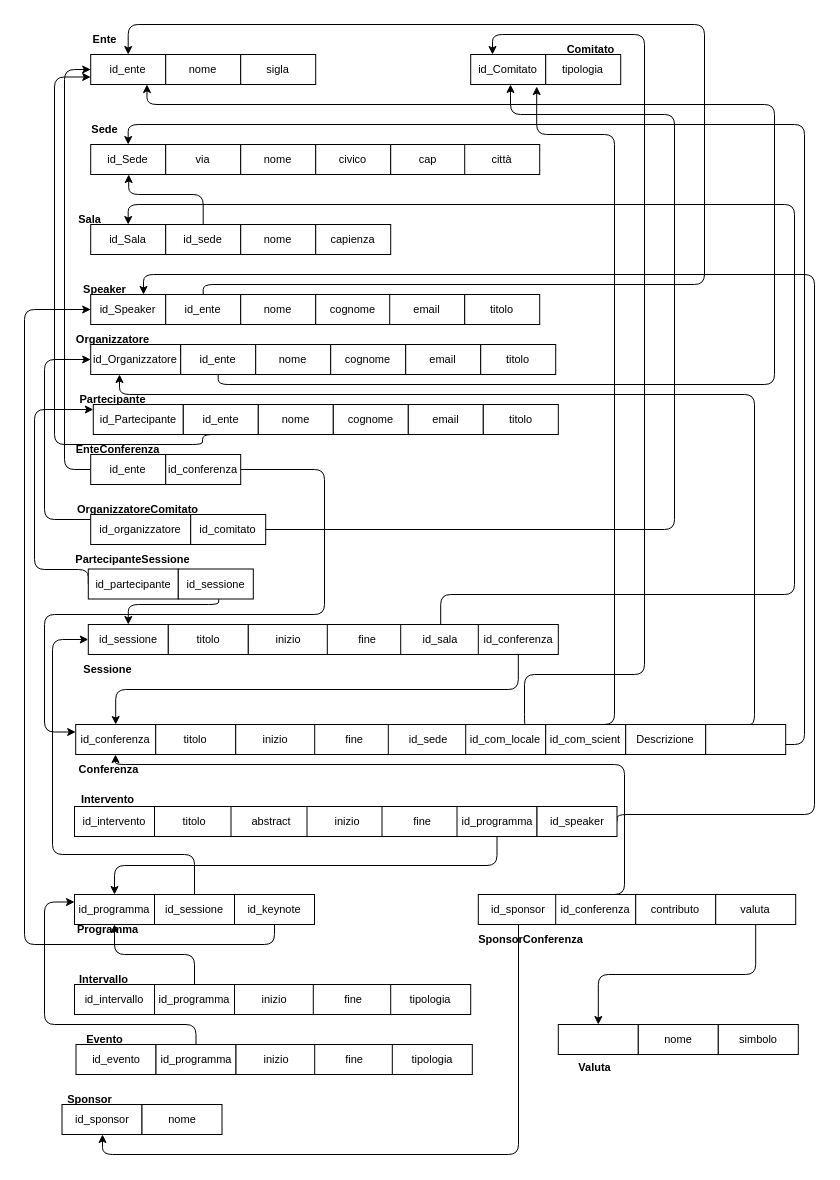
Image size: 840x1180. Some labels were removed from this diagram. The box of each missing label's shape, as (x1, y1, x2, y2) in pixels:
id_coordinatore: (705, 724, 786, 754)
iso: (557, 1024, 638, 1054)
